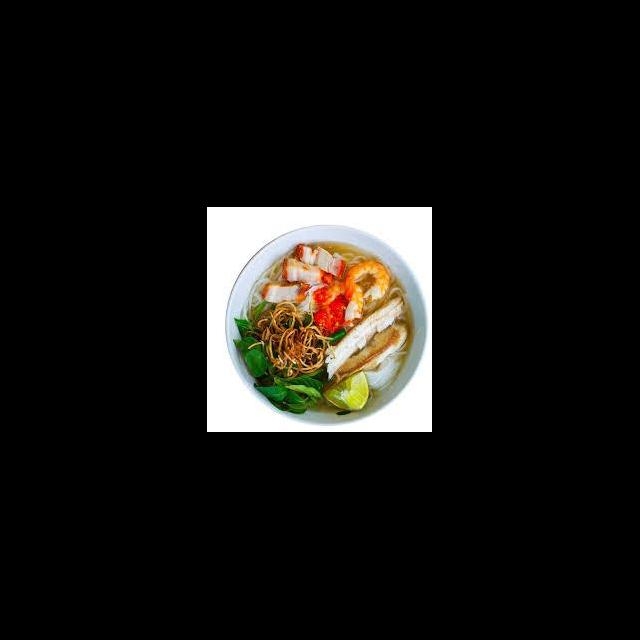bun: (238, 248, 302, 324), (362, 348, 410, 392)
ca: (324, 292, 409, 382), (334, 321, 409, 384)
thit heo quay: (294, 240, 348, 282), (280, 253, 336, 290), (258, 278, 316, 306)
tom: (342, 260, 393, 306), (319, 278, 366, 324)
